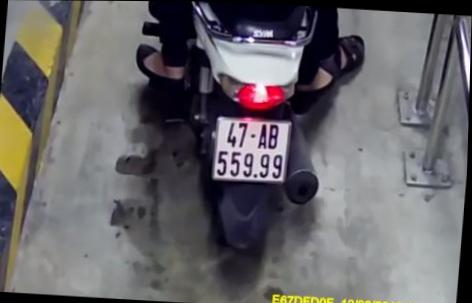LP: (212, 113, 292, 183)
